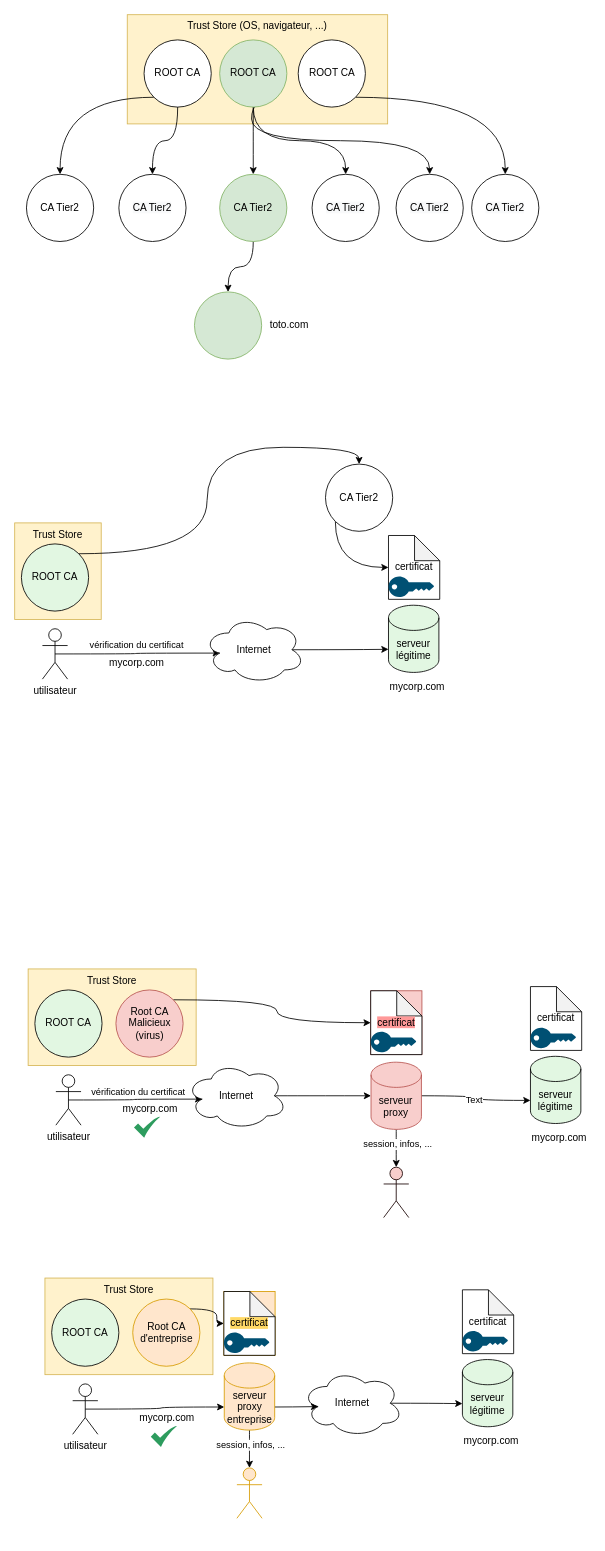
The diagram is 605 pixels wide and 1551 high, and some of its shapes have lost their labels. The centre of each missing label's shape, as x and y in pixels:
Certificat Final: (x=228, y=325)
DSI / CISO: (x=249, y=1492)
Pirate: (x=396, y=1192)
